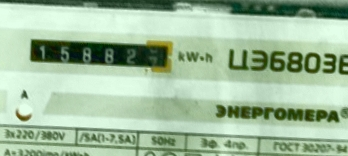1: (36, 44, 47, 62)
2: (124, 48, 136, 65)
5: (57, 45, 70, 63)
7: (146, 55, 157, 69)
8: (80, 46, 92, 64), (103, 48, 114, 65)
screen: (21, 29, 179, 79)
